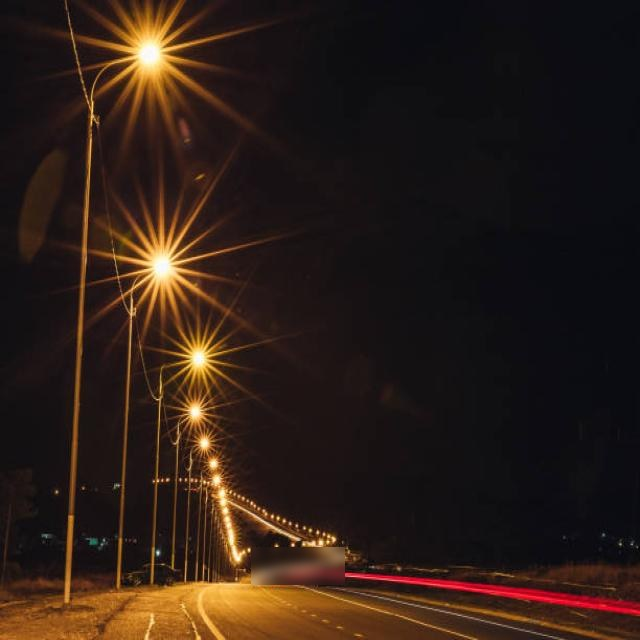acesa: (118, 189, 209, 311), (105, 3, 195, 86), (168, 318, 231, 405)
